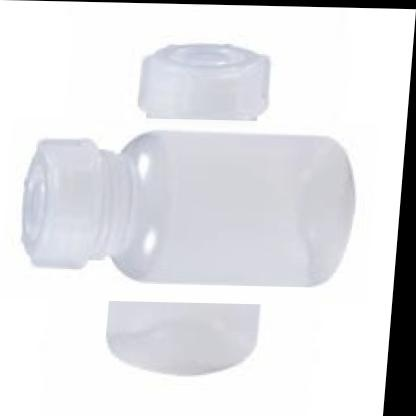trash: (22, 44, 354, 285), (22, 130, 354, 285), (139, 44, 269, 121), (139, 44, 269, 119), (109, 302, 258, 364)
